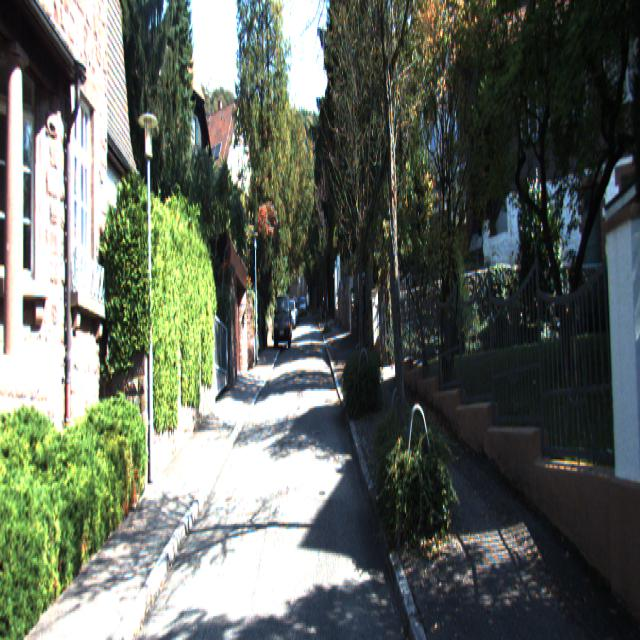Car: (273, 291, 291, 351), (287, 295, 298, 328)
